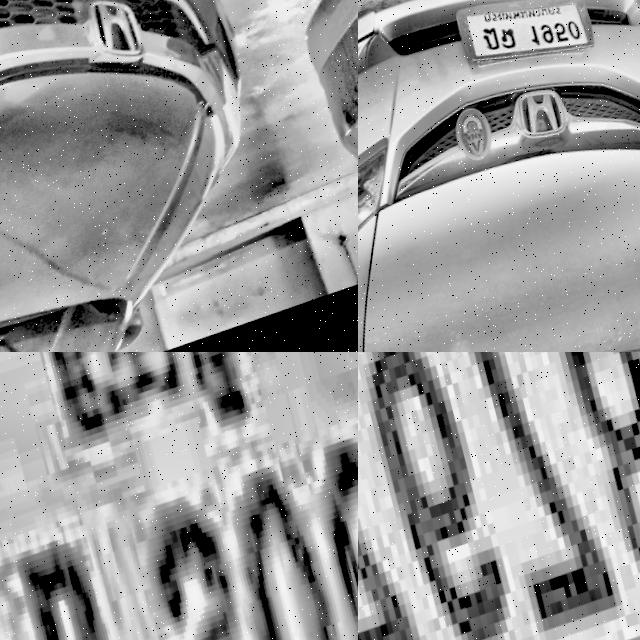license-plate: (0, 352, 358, 640), (358, 352, 640, 640), (449, 0, 603, 98)
